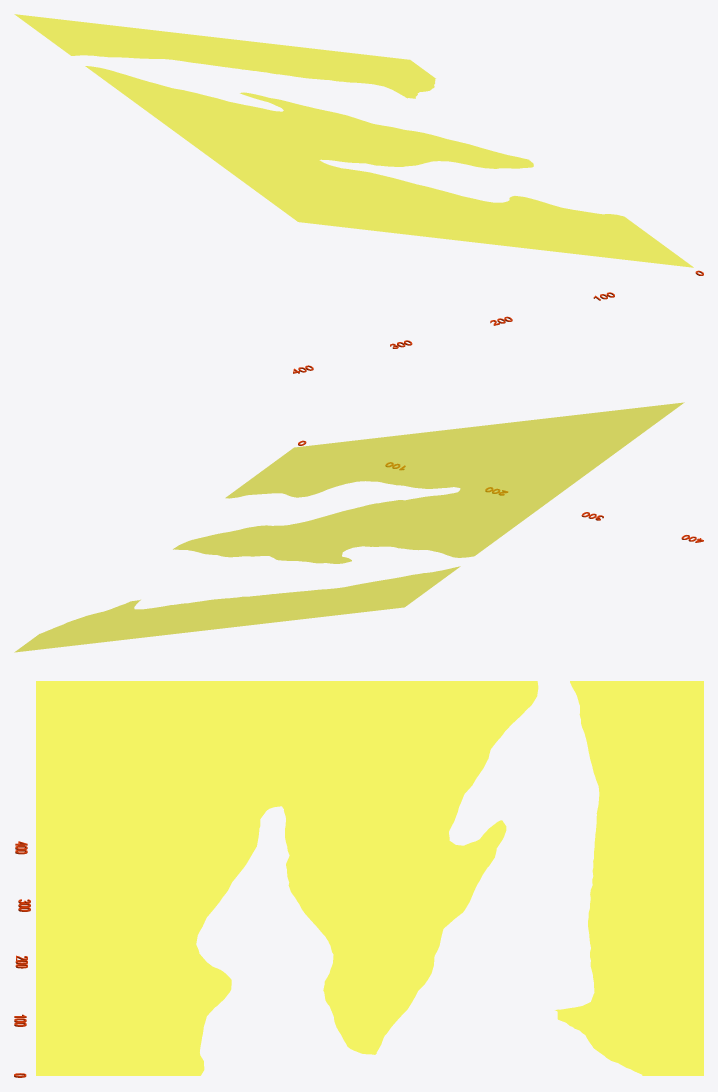
Rendered from RioRastro2b.dae.
3 renders of one model, top to bottom at view 1: azimuth 30°, elevation 25°; view 2: azimuth 150°, elevation 25°; view 3: azimuth 270°, elevation 25°, orthographic. The views are drawn at different scales.
Parts seen in each view (by area): view 1: group_1 (×2); view 2: group_1 (×2); view 3: group_1 (×2).
Boxes of the visible parts, <box> form: group_1 (×2): <box>14,14,693,267</box>; group_1 (×2): <box>14,402,684,652</box>; group_1 (×2): <box>36,681,703,1075</box>.
Bounding box in the file's own units: 71109 × 88210 × 23819.
